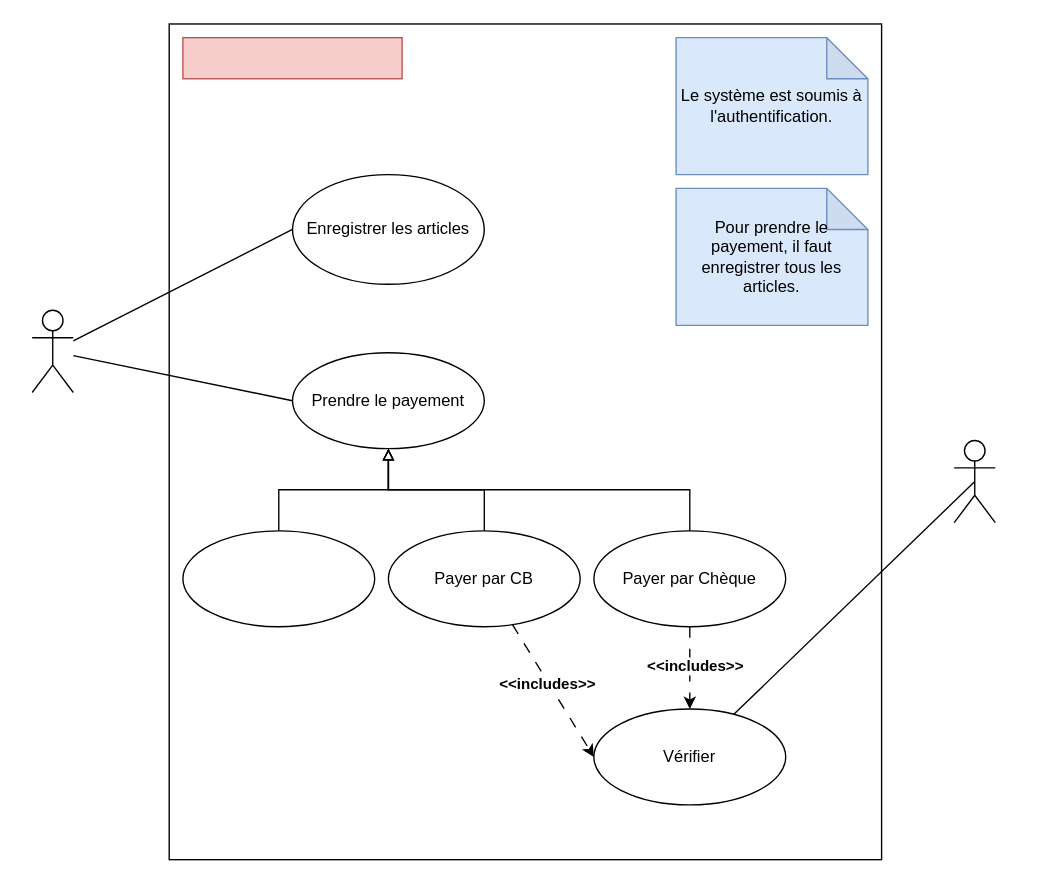
The diagram is 1055 pixels wide and 884 high, and some of its shapes have lost their labels. The shapes that lost their labels are listed below. From the top down, each one's box as (x1, y1, x2, y2) in pixels, then its label:
(182, 36, 402, 79): Logiciel de caisse
(31, 309, 73, 393): Caissier
(953, 439, 995, 523): Banque <<secondary>>
(182, 530, 375, 627): Payer en espèce
